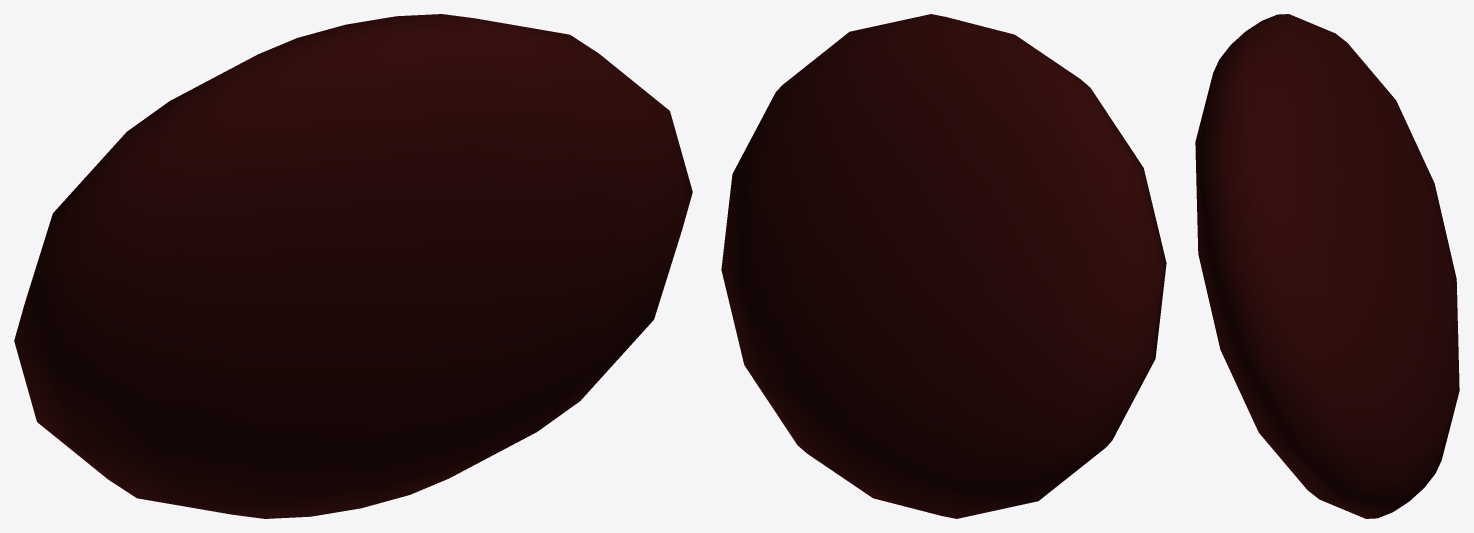
The model's file is mouth.obj.
The picture shows the model from 3 angles, left to right: view 1: azimuth 30°, elevation 25°; view 2: azimuth 150°, elevation 25°; view 3: azimuth 270°, elevation 25°; orthographic projection. The views are drawn at different scales.
Parts seen in each view (by area): view 1: KP_KirbyMouth; view 2: KP_KirbyMouth; view 3: KP_KirbyMouth.
Boxes of the visible parts, x1,y1,x2,y2 form: KP_KirbyMouth: (14,14,692,518); KP_KirbyMouth: (721,14,1166,518); KP_KirbyMouth: (1195,14,1459,518).
Bounding box in the file's own units: 0.7029 × 0.6083 × 0.3352.
